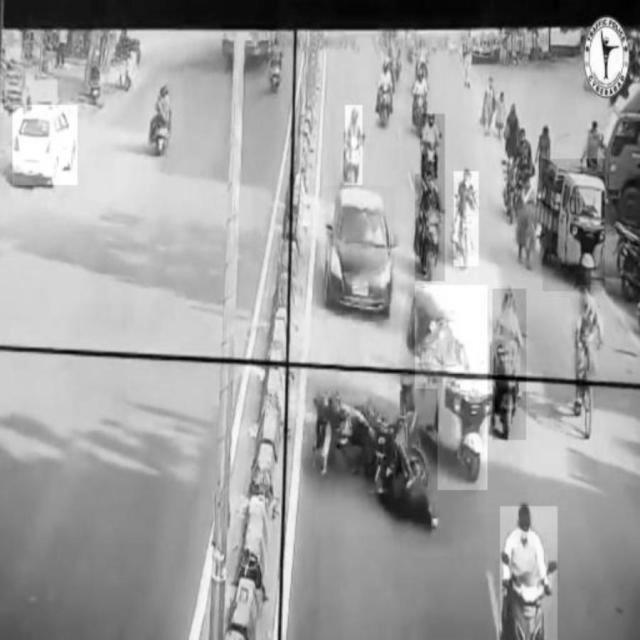accident: (314, 389, 438, 536)
vehicle: (415, 285, 488, 490), (325, 186, 395, 318), (543, 159, 605, 291), (500, 506, 558, 640), (13, 105, 77, 186), (492, 289, 526, 440), (576, 285, 601, 432), (415, 174, 445, 282), (454, 172, 479, 266), (420, 114, 445, 176), (344, 105, 362, 186), (153, 83, 171, 157), (267, 29, 283, 93)
